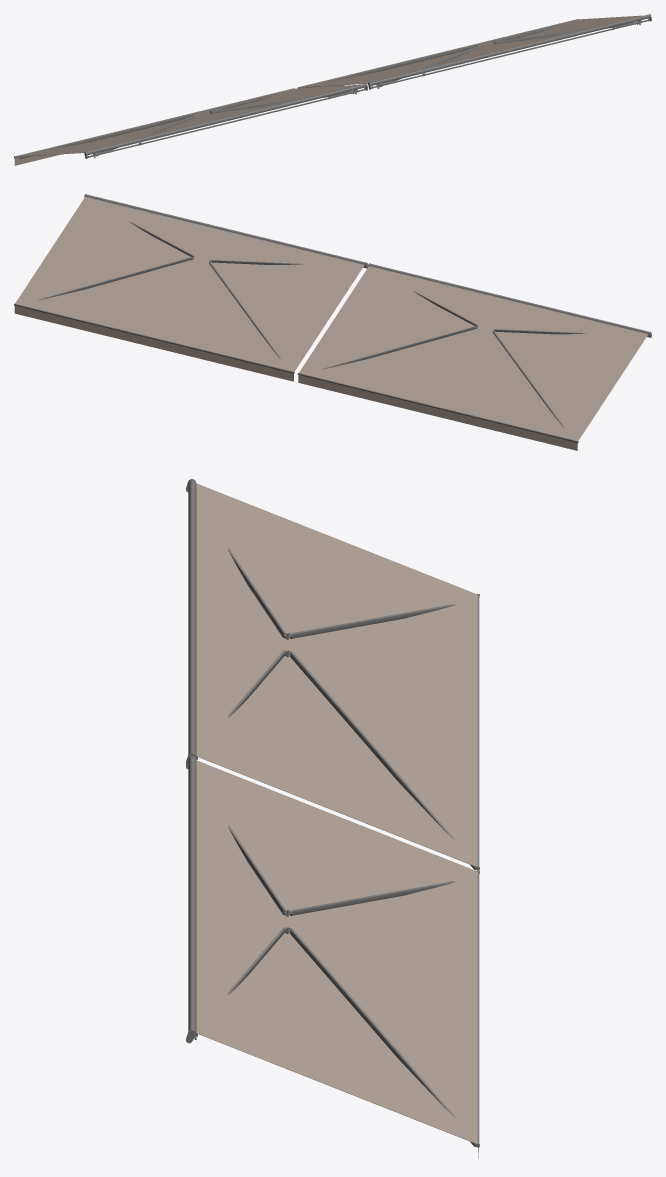
The model's file is awning.glb.
The picture shows the model from 3 angles, top to bottom: view 1: azimuth 30°, elevation 25°; view 2: azimuth 150°, elevation 25°; view 3: azimuth 270°, elevation 25°; orthographic projection. The views are drawn at different scales.
Parts seen in each view (by area): view 1: Material2.003, Material2.016, Material2.006, Material2.019; view 2: Material2.019, Material2.006, Material2.003, Material2.016, Material2.020, Material2.007; view 3: Material2.019, Material2.006, Material2.016, Material2.003.
Boxes of the visible parts, x1,y1,x2,y2 form: Material2.003: [15, 83, 366, 159]; Material2.016: [299, 14, 650, 88]; Material2.006: [16, 85, 358, 156]; Material2.019: [301, 15, 642, 87]; Material2.019: [15, 197, 363, 371]; Material2.006: [299, 266, 647, 440]; Material2.003: [298, 263, 648, 442]; Material2.016: [14, 194, 365, 373]; Material2.020: [14, 306, 293, 381]; Material2.007: [298, 375, 577, 450]; Material2.019: [197, 761, 477, 1143]; Material2.006: [197, 484, 477, 866]; Material2.016: [188, 757, 479, 1146]; Material2.003: [188, 480, 479, 869].
Bounding box in the file's own units: 12.02 × 1.35 × 2.71.
